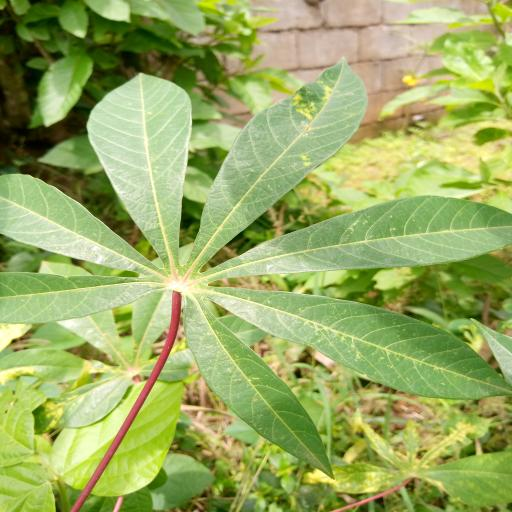Cassava_Mosaic: (0, 56, 512, 477)
